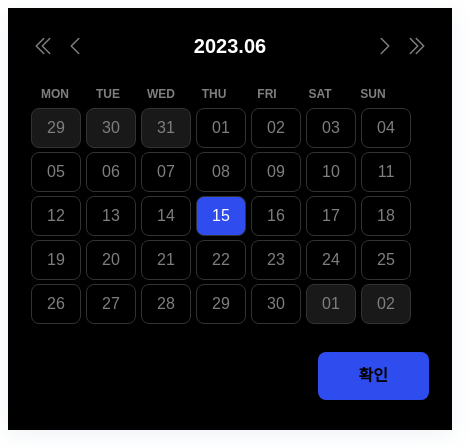
Scenario: Calendar › navigates to previous year
Click the icon with test id "double-left-arrow" at (43, 46), box [31, 34, 55, 58]
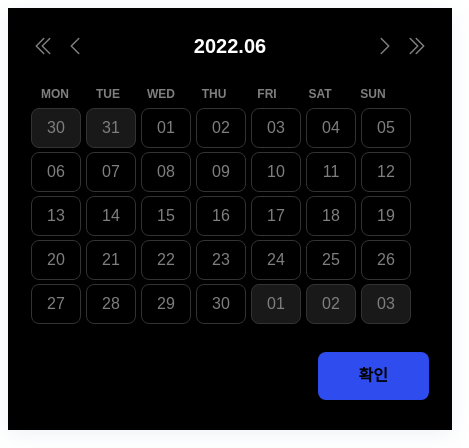
Result: the heading "2022.06" is shown at [194, 32, 266, 60]
